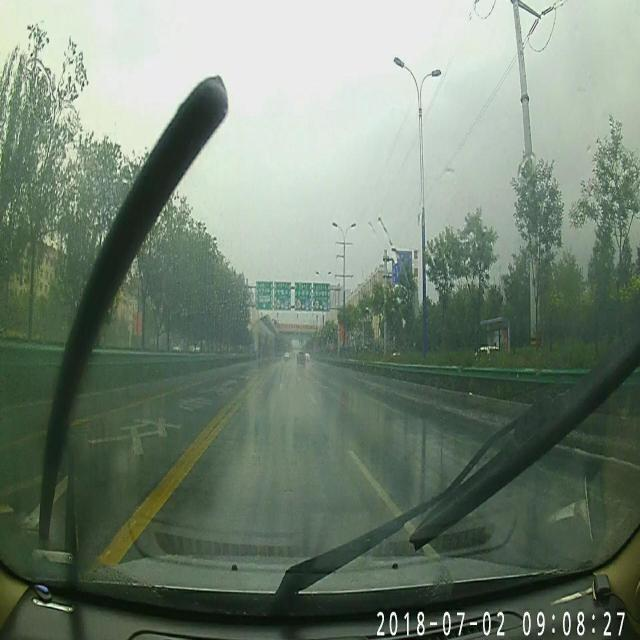car: (294, 351, 306, 366), (283, 350, 290, 360)
